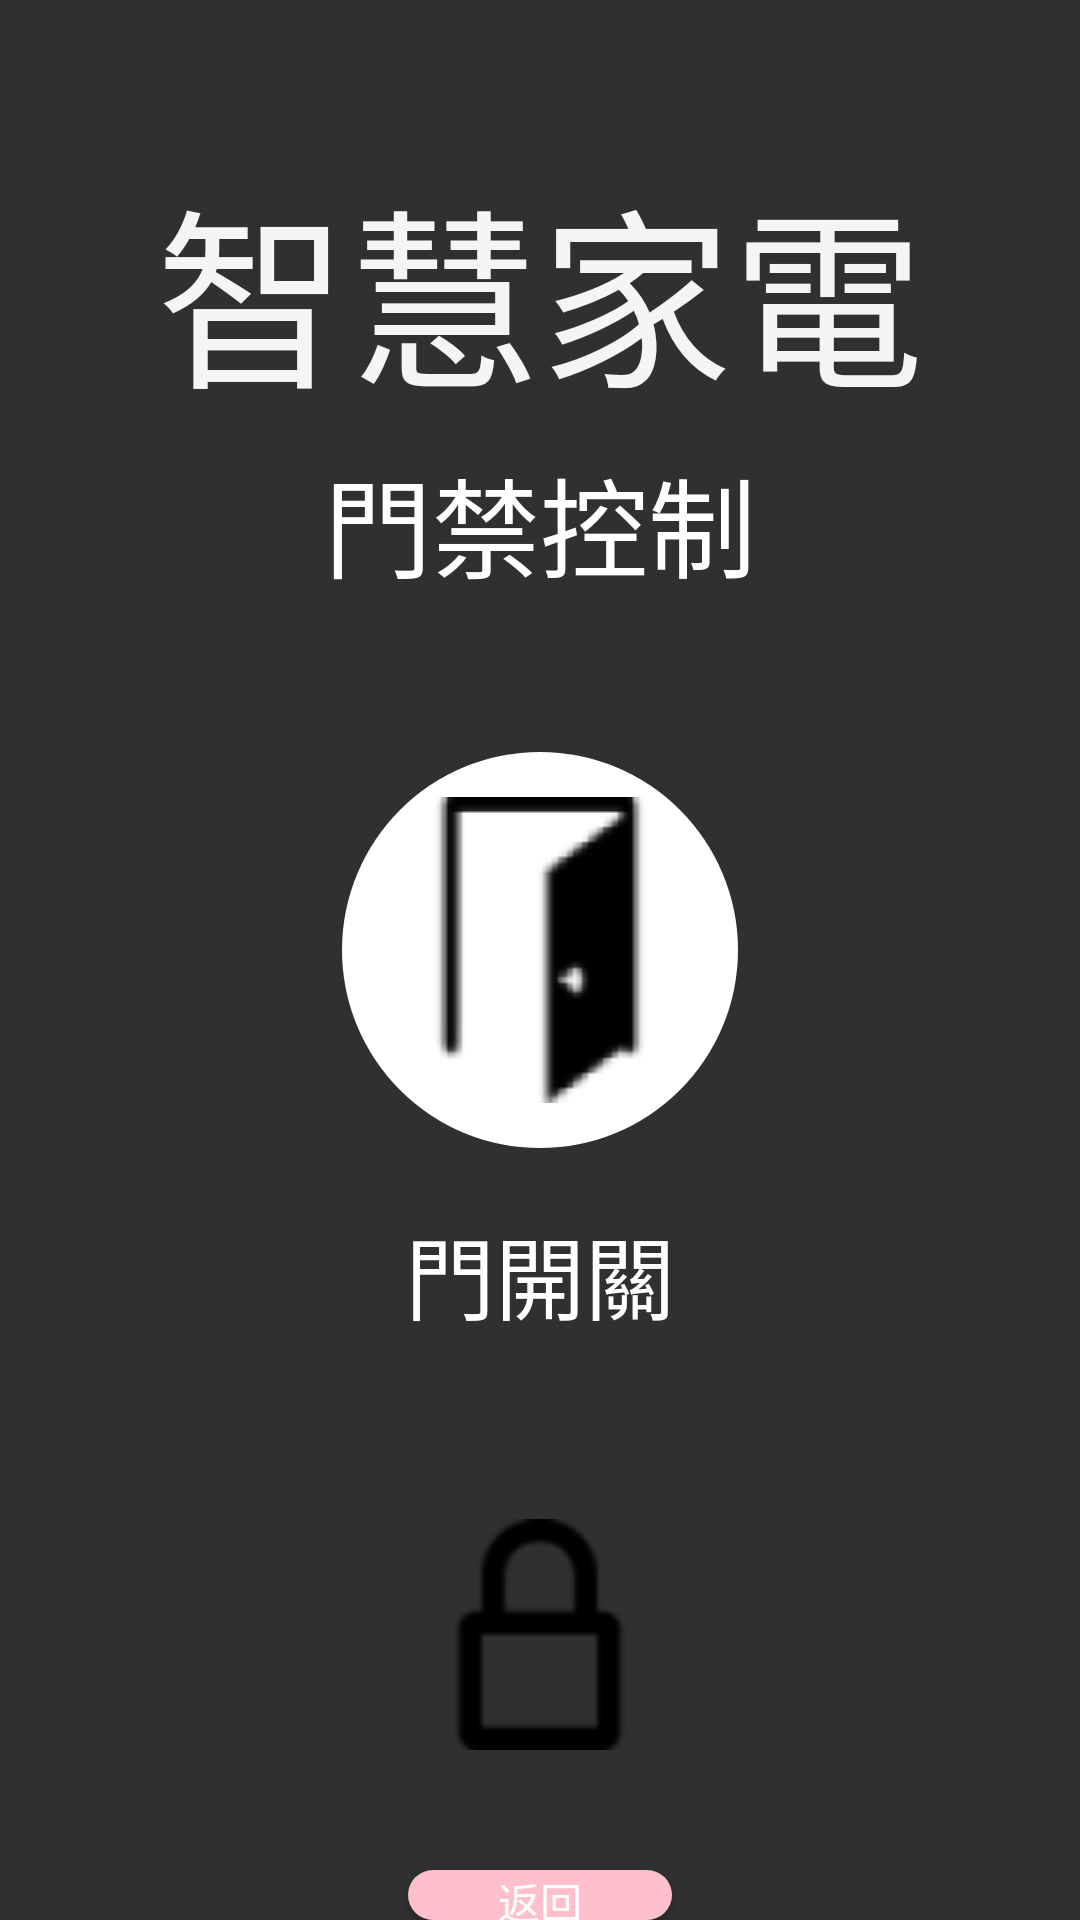

Named icons in this screenshot (1080x1920) and their centers, (x,y):
close lock: (539,1634)
